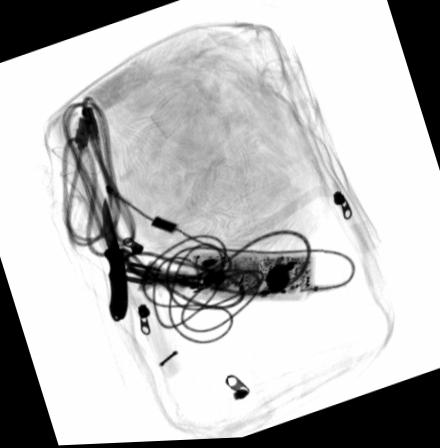Knife: (100, 195, 129, 322)
